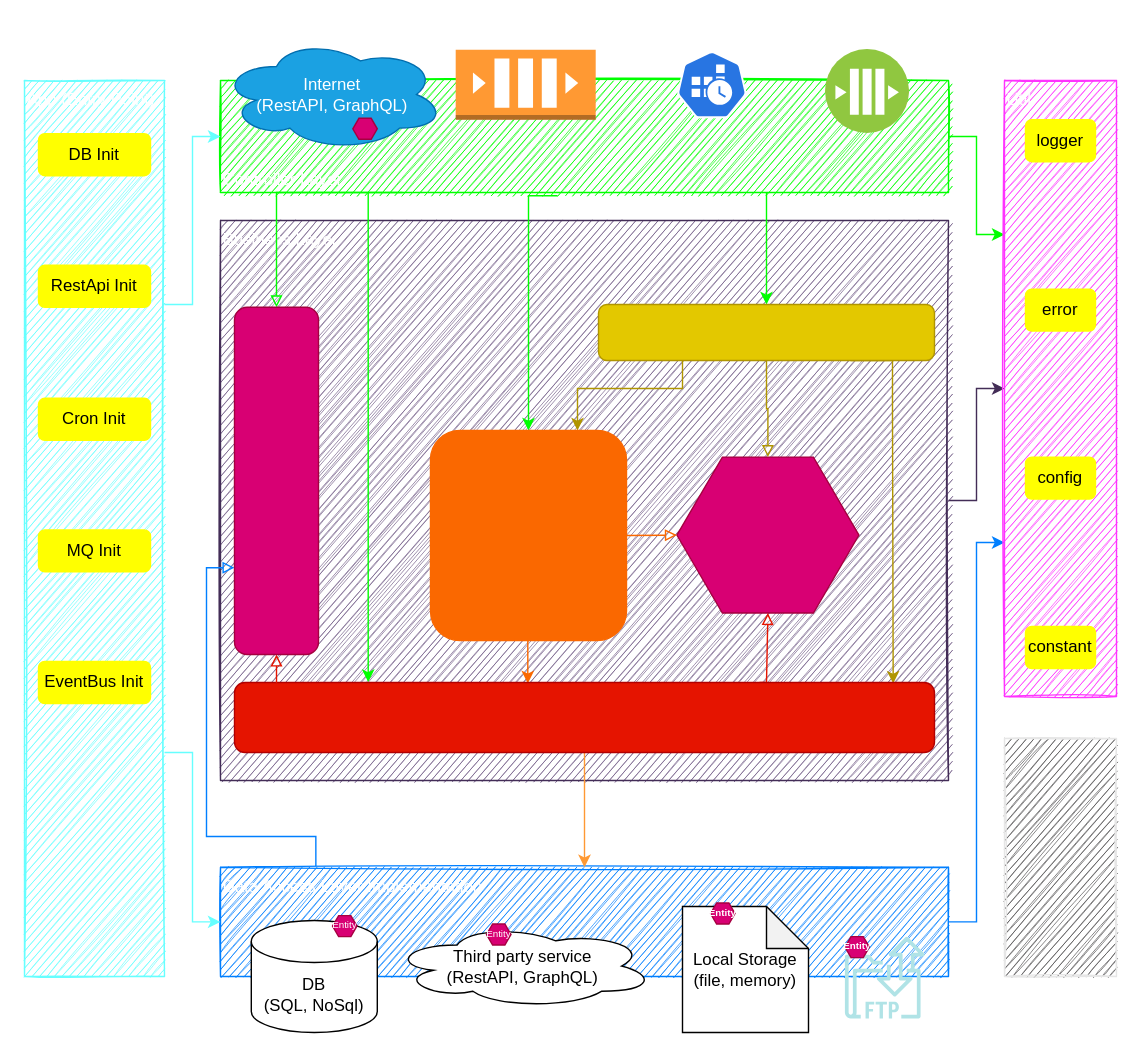
This 1141x1057 diagram has some shape labels left out. The centre of each missing label's shape, as x and y in pixels:
"Common DAL" belongs at point 275,480.
"CronJob" belongs at point 711,84.
"Data Access Layer" belongs at point 583,716.
"EventBus" belongs at point 867,91.
"Message Queue" belongs at point 525,84.
"Model Layer" belongs at point 767,534.
"Module Layer" belongs at point 1059,856.
"Service Layer" belongs at point 527,534.
"TO" belongs at point 364,128.
"Use Case Layer" belongs at point 765,331.
